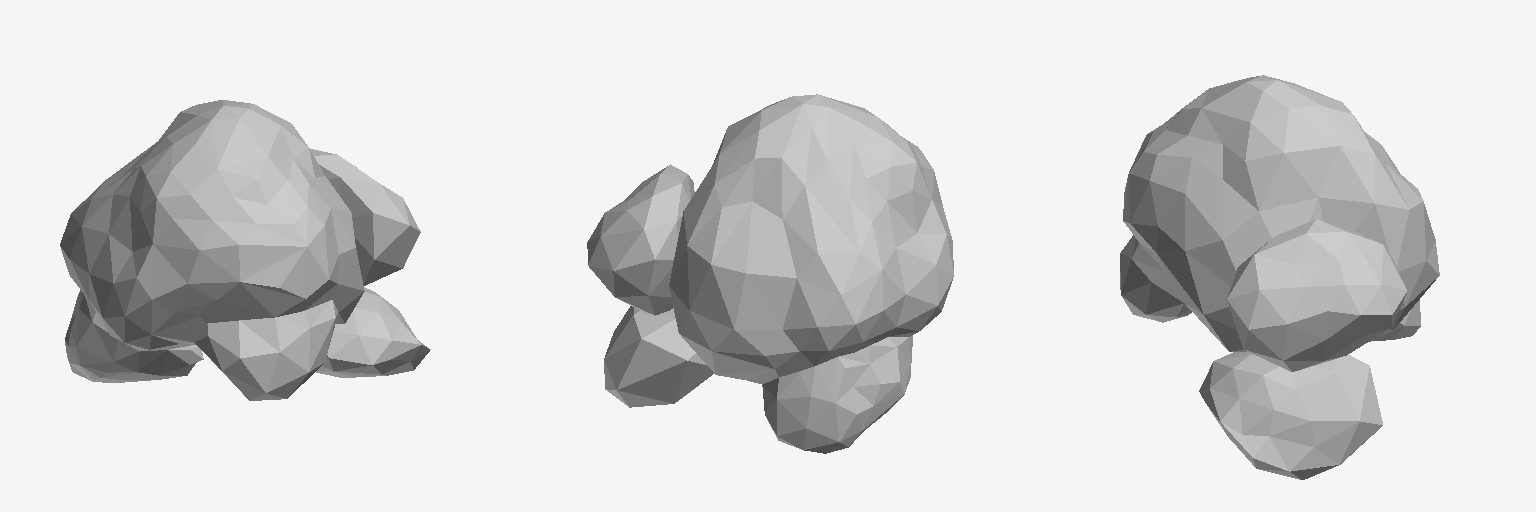
File: treetop.obj
3 renders of one model, left to right at view 1: azimuth 30°, elevation 25°; view 2: azimuth 150°, elevation 25°; view 3: azimuth 270°, elevation 25°, orthographic.
Visible parts, largest first — view 1: tree3_Icosphere.006_tree3_Icosphere.012, tree5_Cube.019, tree5_Cube.018; view 2: tree3_Icosphere.006_tree3_Icosphere.012, tree5_Cube.019, tree5_Cube.018; view 3: tree3_Icosphere.006_tree3_Icosphere.012, tree5_Cube.019, tree5_Cube.018.
Boxes of the visible parts, box(x1,y1,x2,y2) form: tree3_Icosphere.006_tree3_Icosphere.012: box(60, 100, 364, 400); tree5_Cube.019: box(310, 149, 420, 285); tree5_Cube.018: box(316, 287, 430, 377); tree3_Icosphere.006_tree3_Icosphere.012: box(669, 94, 953, 453); tree5_Cube.019: box(587, 164, 694, 315); tree5_Cube.018: box(604, 306, 713, 407); tree3_Icosphere.006_tree3_Icosphere.012: box(1120, 75, 1439, 351); tree5_Cube.019: box(1227, 219, 1406, 371); tree5_Cube.018: box(1199, 351, 1382, 479).
Size of the model in its own units: 13.76 by 12.99 by 11.79.